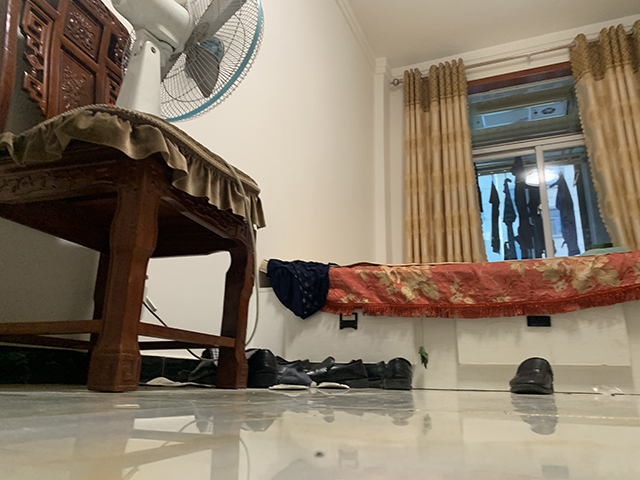bed: (255, 251, 639, 398)
curtain: (402, 58, 487, 264), (569, 22, 640, 251)
stool: (1, 1, 267, 393)
